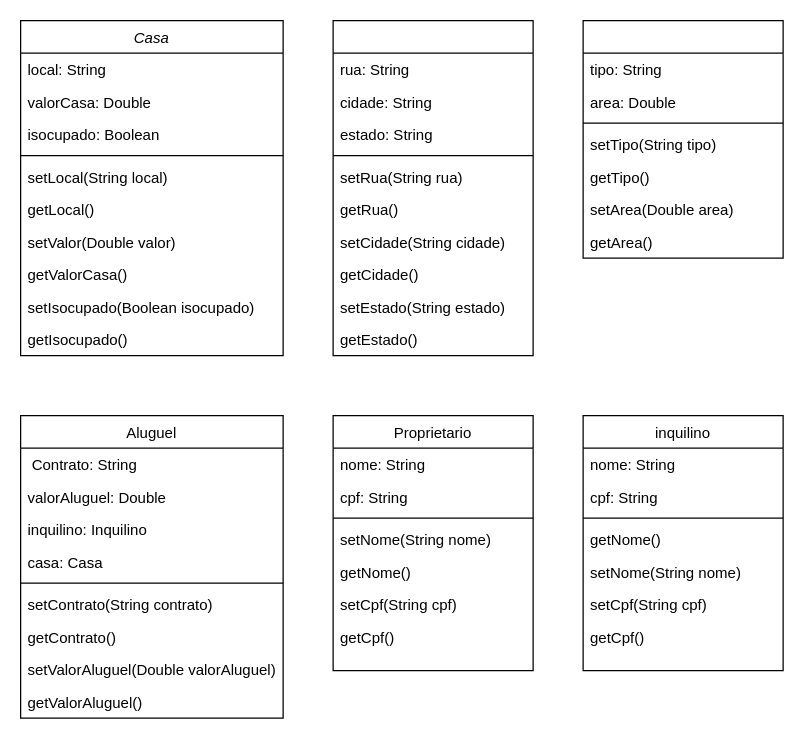
This 804x739 diagram has some shape labels left out. Here are the shapes that lost their labels. From the top down, the box of each, then its label:
(582, 19, 783, 258): Imovel
(332, 19, 533, 356): Endereço
